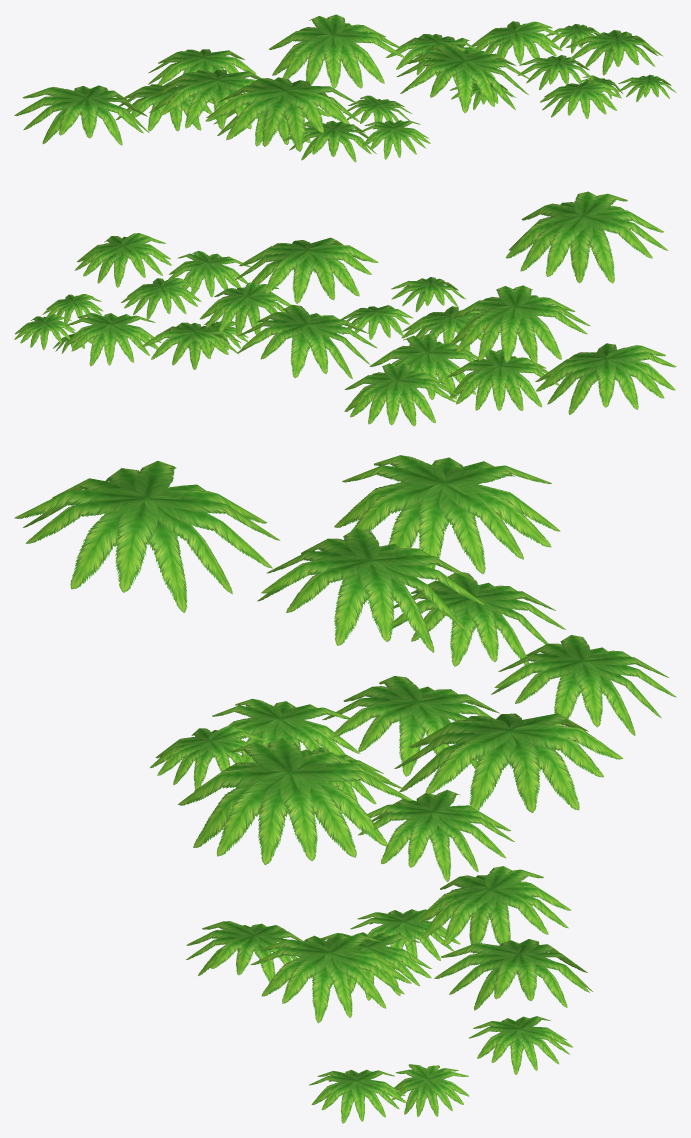
The model's file is PalmCrownsLeftShape.dae.
3 views of the same model, one above another, from view 1: azimuth 30°, elevation 25°; view 2: azimuth 150°, elevation 25°; view 3: azimuth 270°, elevation 25° (orthographic). The views are drawn at different scales.
Visible parts, largest first — view 1: PalmCrownsLeft; view 2: PalmCrownsLeft; view 3: PalmCrownsLeft.
Part boxes in pixels (x1=…): PalmCrownsLeft: x1=14, y1=14, x2=676, y2=162; PalmCrownsLeft: x1=14, y1=191, x2=676, y2=426; PalmCrownsLeft: x1=14, y1=455, x2=676, y2=1123.
Bounding box in the file's own units: 100 × 26.25 × 55.39.
